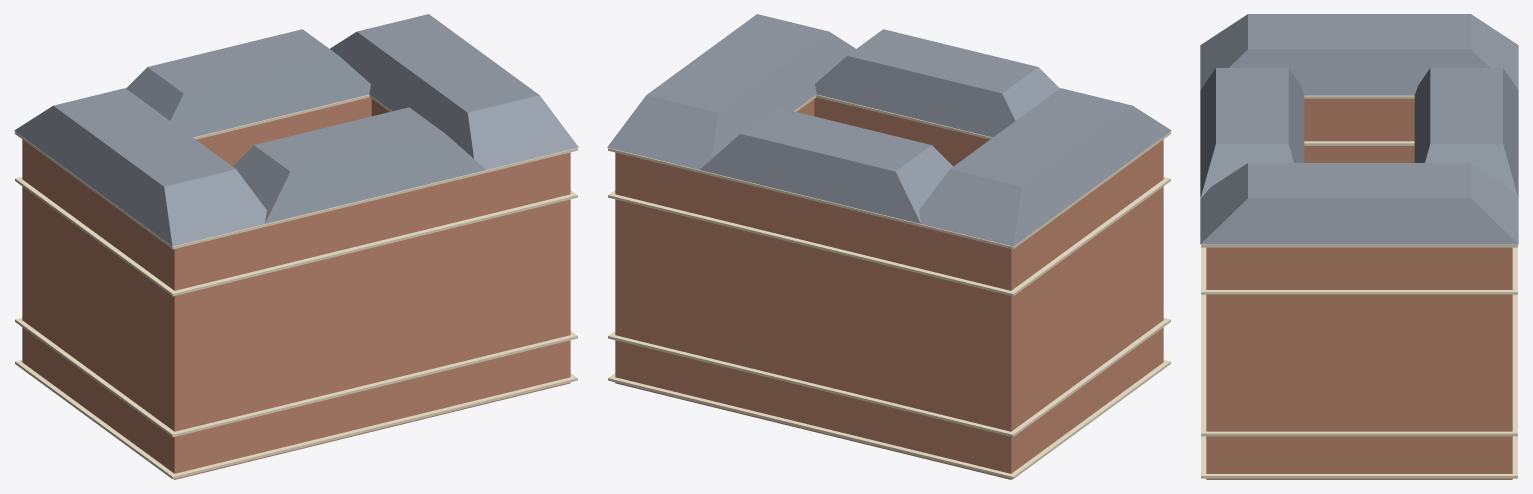
Rendered from heritage-5-lod2.glb.
3 renders of one model, left to right at view 1: azimuth 30°, elevation 25°; view 2: azimuth 150°, elevation 25°; view 3: azimuth 270°, elevation 25°, orthographic.
Visible parts, largest first — view 1: heritage-5_architecture; view 2: heritage-5_architecture; view 3: heritage-5_architecture.
Boxes of the visible parts, x1,y1,x2,y2 form: heritage-5_architecture: (14,14,578,479); heritage-5_architecture: (607,14,1171,479); heritage-5_architecture: (1200,14,1518,479).
Size of the model in its own units: 30.8 by 19.95 by 20.8.
